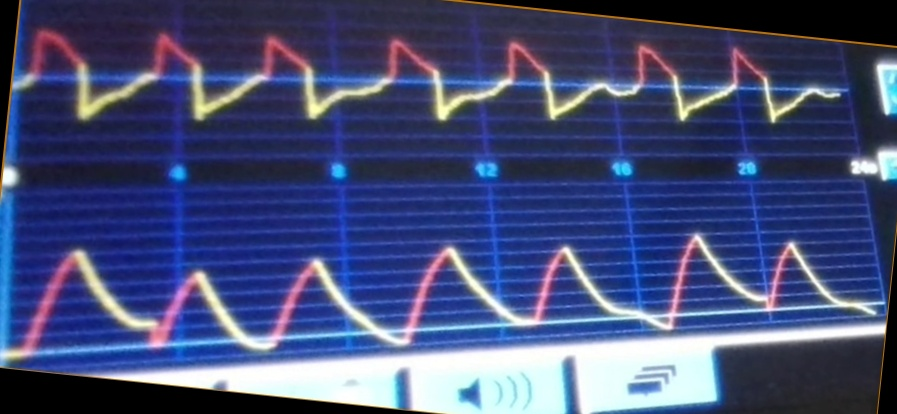Ineffective_effort Flow: (21, 23, 841, 146)
Ineffective_effort Volume: (13, 230, 874, 359)
